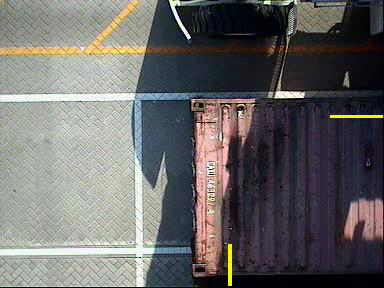groundmarker_2: (195, 118, 235, 176)
